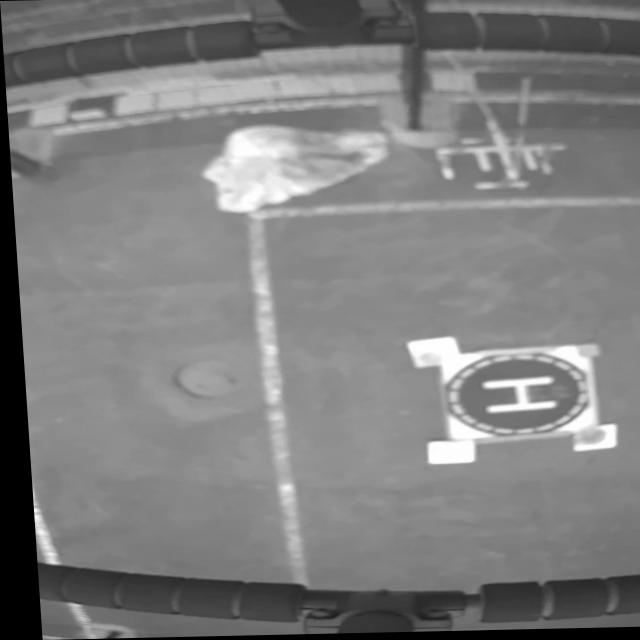Helipad: (474, 376, 557, 415)
